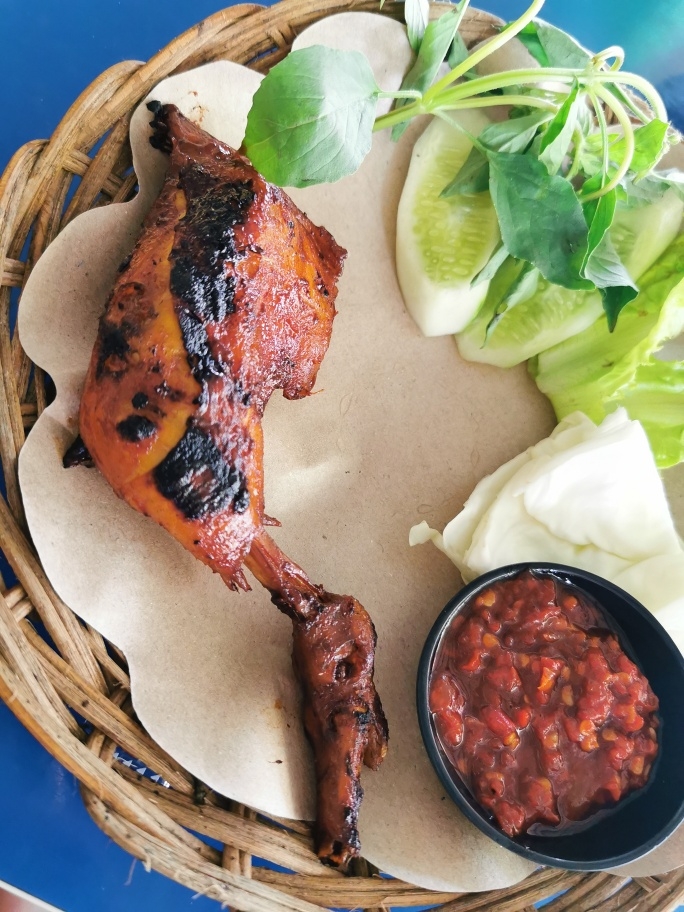ayam bakar: (59, 86, 415, 872)
